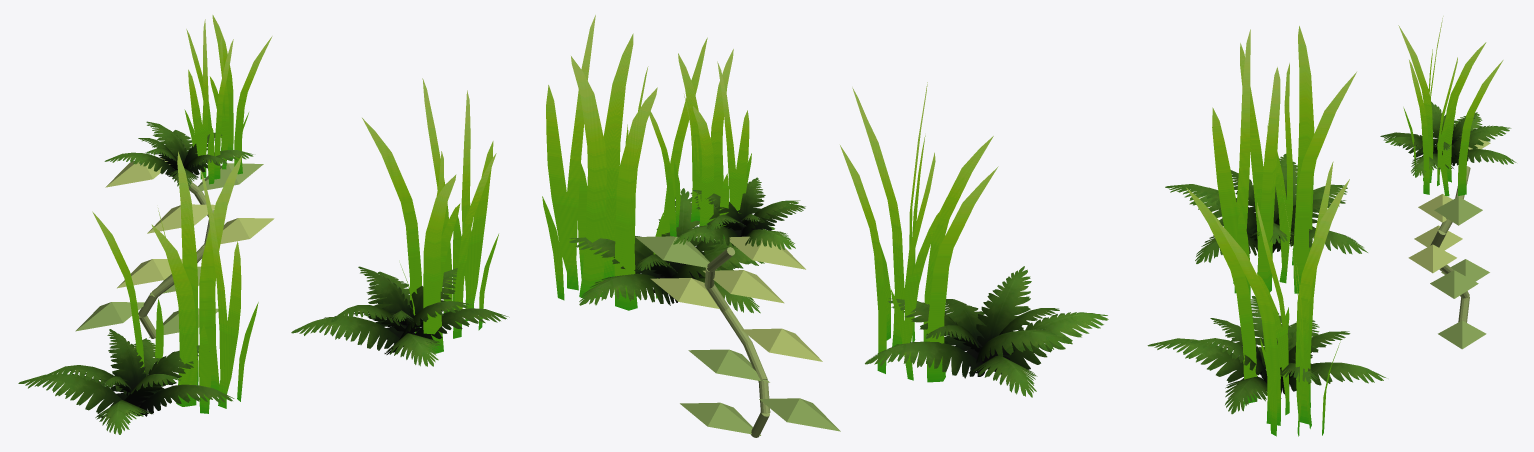
The model's file is Cracked_Planter_Greenery.glb.
3 views of the same model, side by side, from view 1: azimuth 30°, elevation 25°; view 2: azimuth 150°, elevation 25°; view 3: azimuth 270°, elevation 25° (orthographic). The views are drawn at different scales.
Visible parts, largest first — view 1: Patch_000, Patch_001, Patch_002; view 2: Patch_000, Patch_002, Patch_001; view 3: Patch_000, Patch_001, Patch_002.
Boxes of the visible parts, x1,y1,x2,y2 form: Patch_000: [18, 151, 258, 434]; Patch_001: [291, 78, 509, 366]; Patch_002: [75, 15, 274, 338]; Patch_000: [840, 82, 1108, 397]; Patch_002: [635, 49, 840, 437]; Patch_001: [542, 15, 774, 313]; Patch_000: [1165, 26, 1367, 299]; Patch_001: [1147, 161, 1385, 436]; Patch_002: [1380, 16, 1516, 349].
Size of the model in its own units: 1.52 by 0.9942 by 1.01.
Materials: 5 (2 with a texture image).
